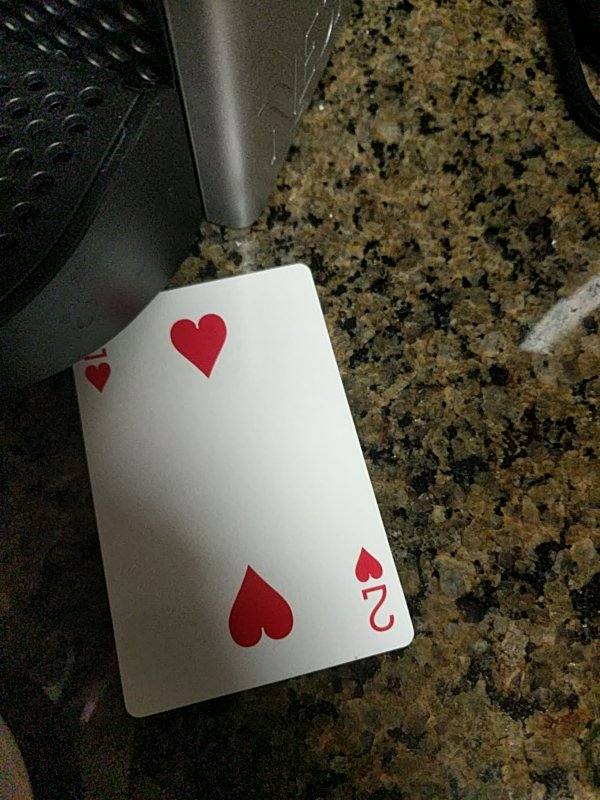Hearts: (66, 264, 415, 723)
